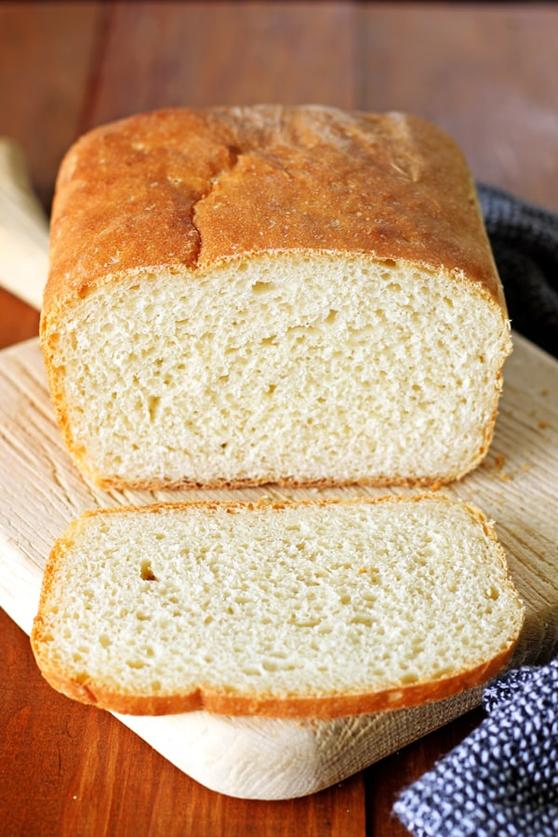white_bread: (52, 109, 514, 491)
